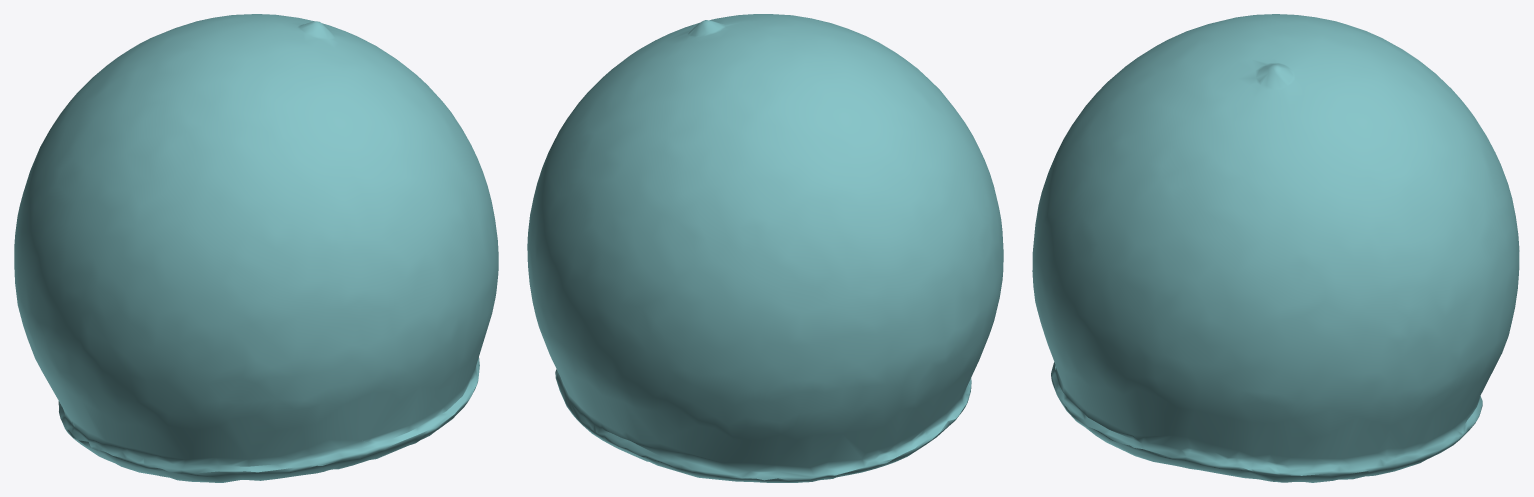
The picture shows the model from 3 angles, left to right: view 1: azimuth 30°, elevation 25°; view 2: azimuth 150°, elevation 25°; view 3: azimuth 270°, elevation 25°; orthographic projection. The views are drawn at different scales.
Visible parts, largest first — view 1: 左侧玻璃体; view 2: 左侧玻璃体; view 3: 左侧玻璃体.
Part boxes in pixels (box(x1,y1,x2,y2)): 左侧玻璃体: box(14, 14, 498, 482); 左侧玻璃体: box(527, 14, 1003, 482); 左侧玻璃体: box(1032, 14, 1519, 482).
Bounding box in the file's own units: 0.03 × 0.0261 × 0.0299.
